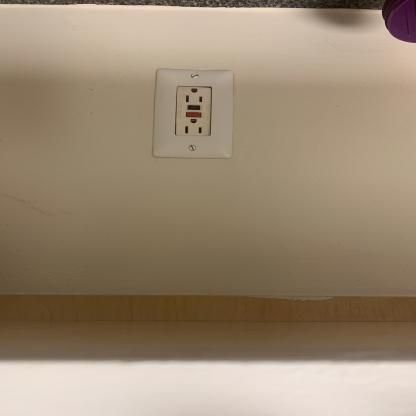OUTLET: (152, 70, 234, 158)
